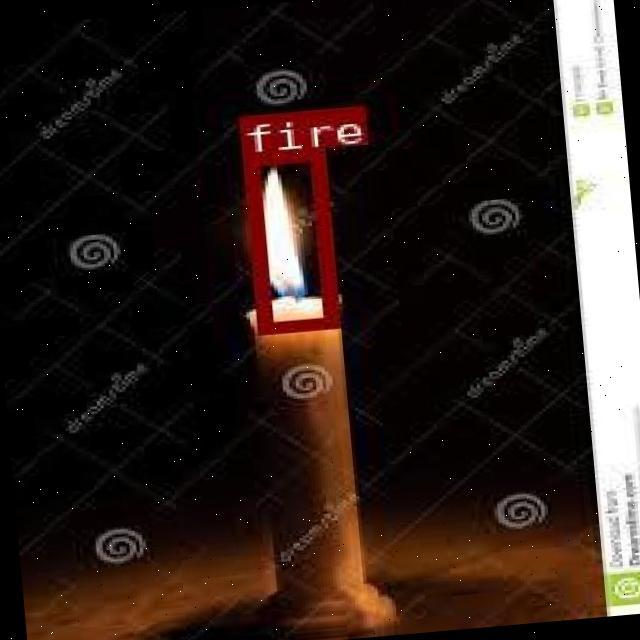fire: (240, 146, 334, 332)
